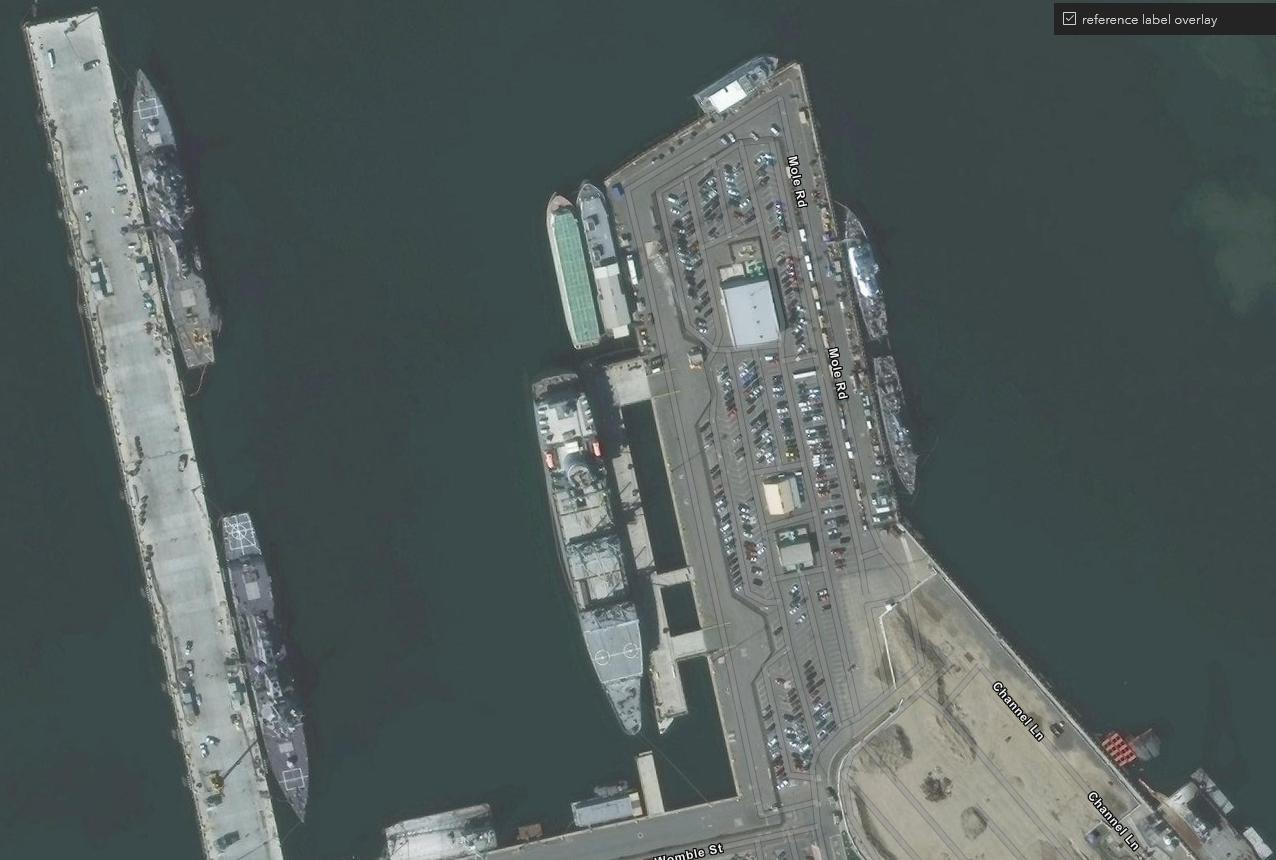fregate: (210, 502, 317, 825), (124, 54, 220, 376)
supply: (526, 366, 655, 741)
